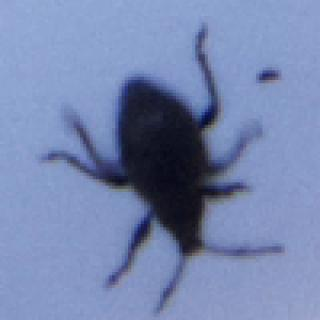bvw: (40, 22, 283, 317)
